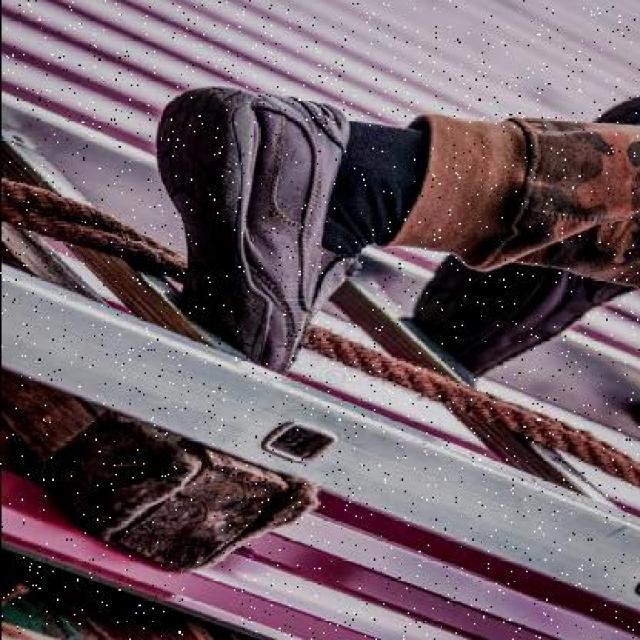shoes: (159, 91, 350, 366)
